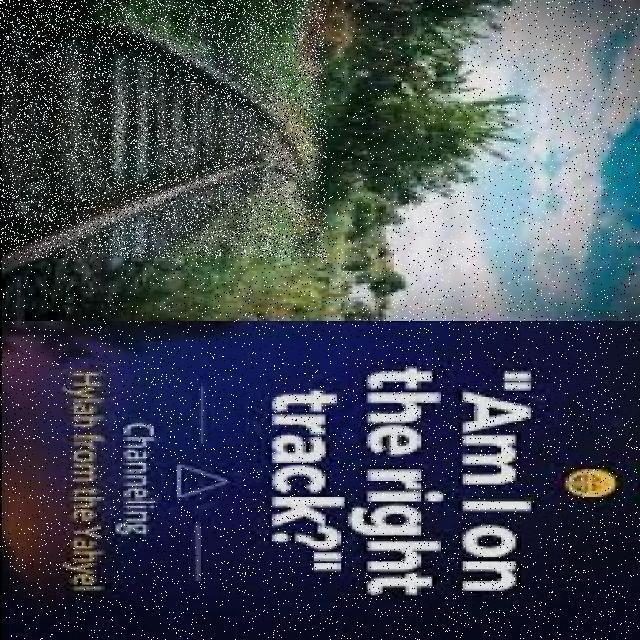rail: (6, 1, 315, 294)
